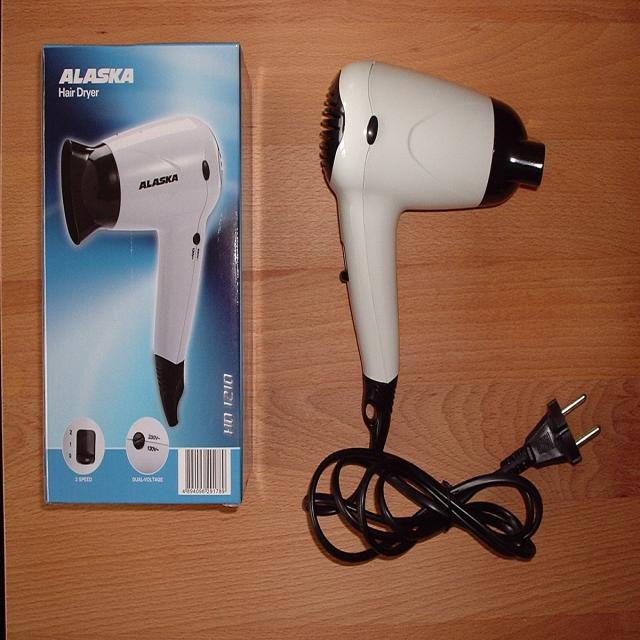dryer: (318, 60, 548, 463), (59, 110, 224, 428)
